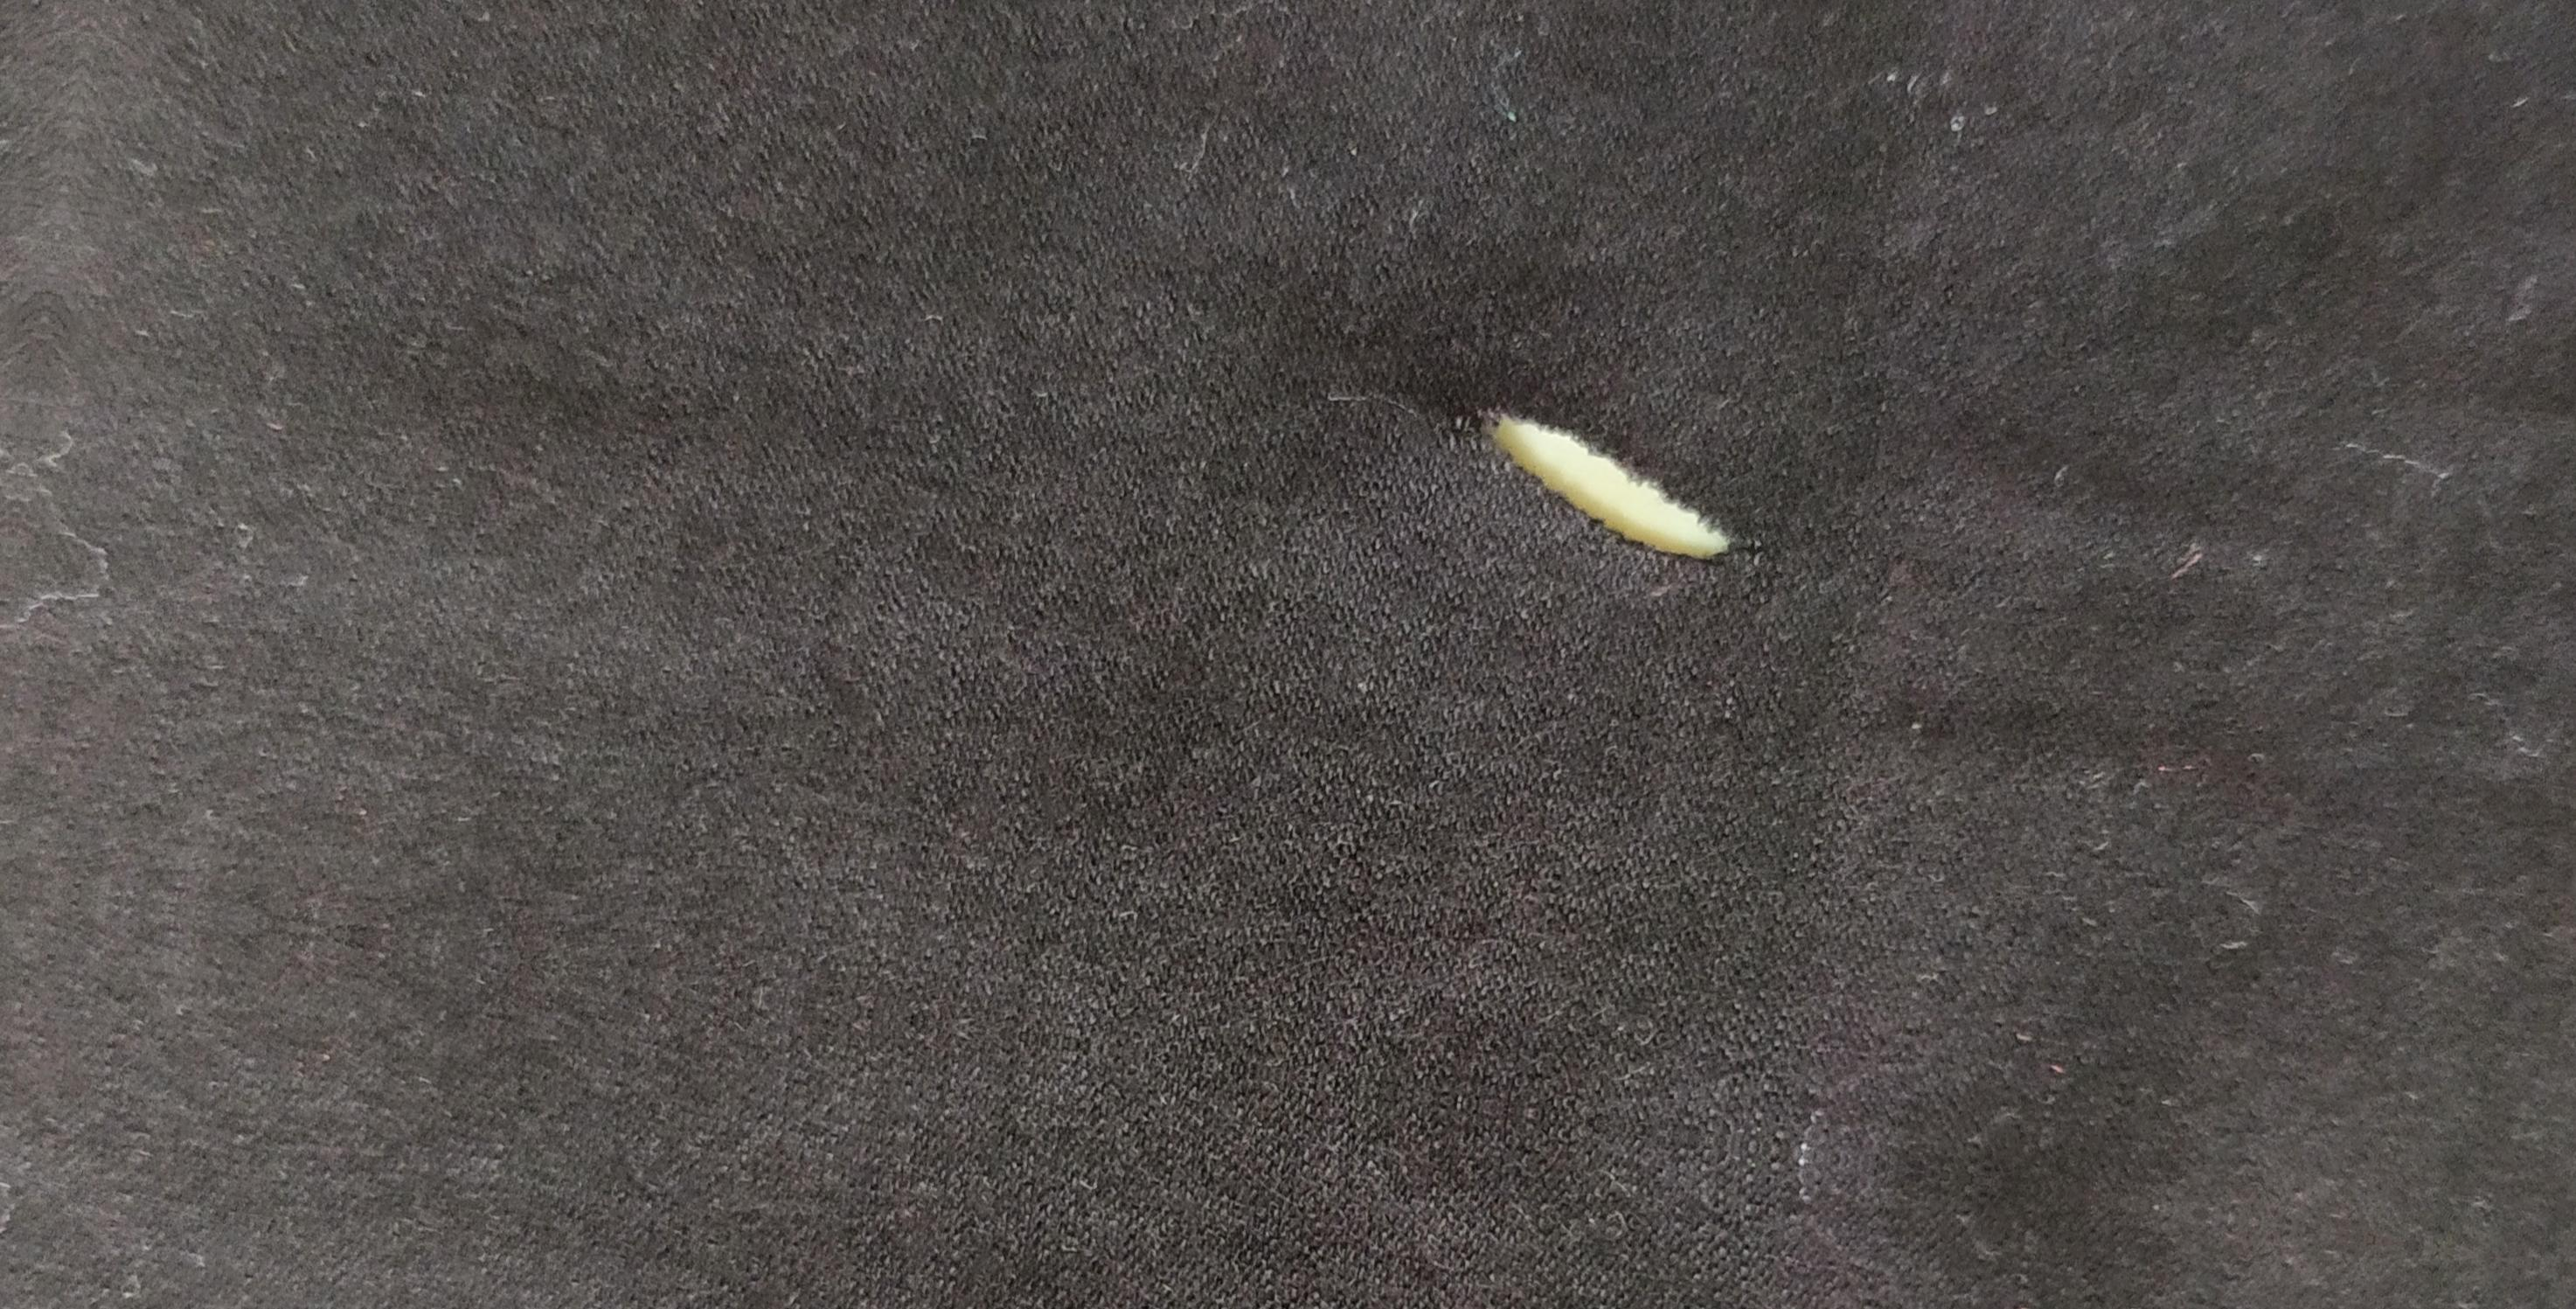hole: (1458, 377, 1755, 594)
